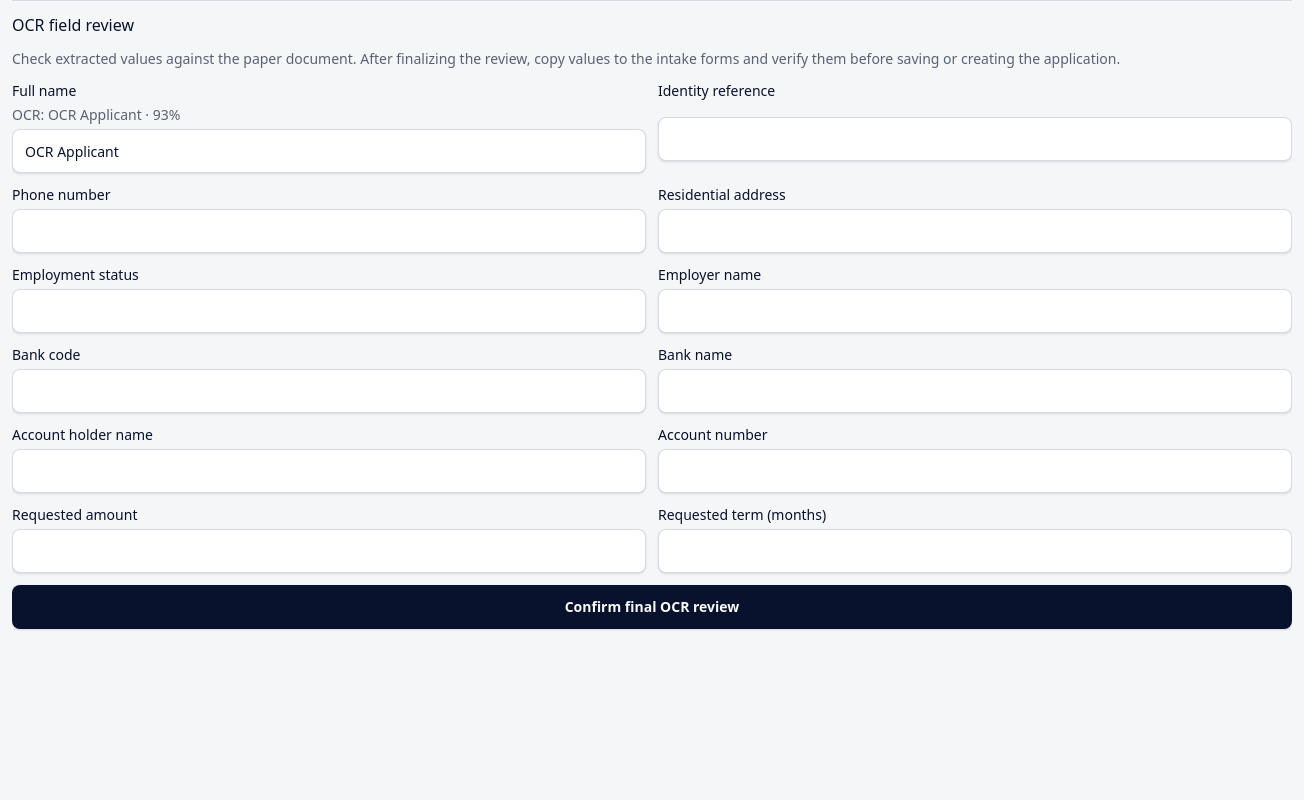
Scenario: IntakeOcrReviewPanel › renders confidence, submits Staff corrections, excludes consent, and drops sensitive cache on unmount
The width and height of the screenshot is (1304, 800).
Expected: the text "OCR: OCR Applicant · 93%" is shown, [12,105,180,124]
Replace the text in the field showing "OCR Applicant" with "Corrected Applicant" at coordinates (329, 151), box [12,129,646,173]
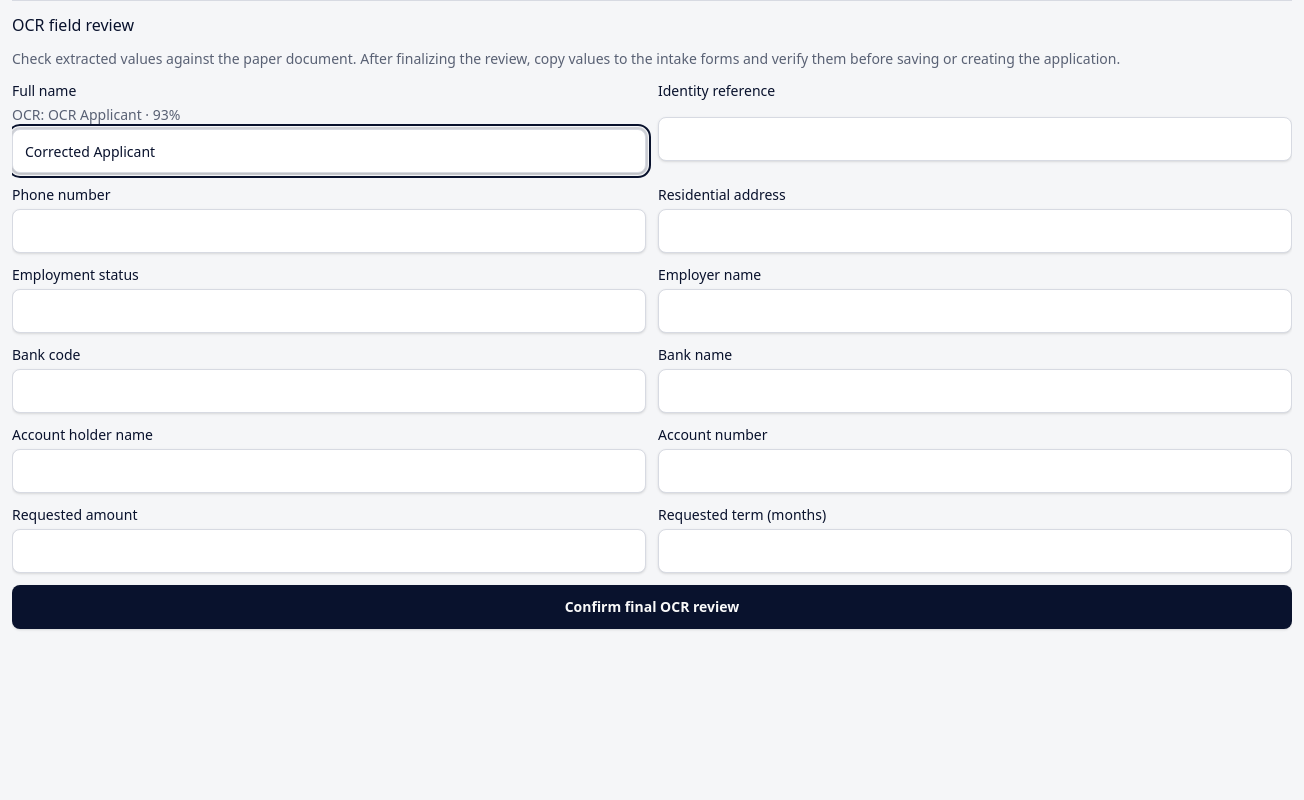
Click the button "Confirm final OCR review" at coordinates (652, 607), box [12,585,1292,629]
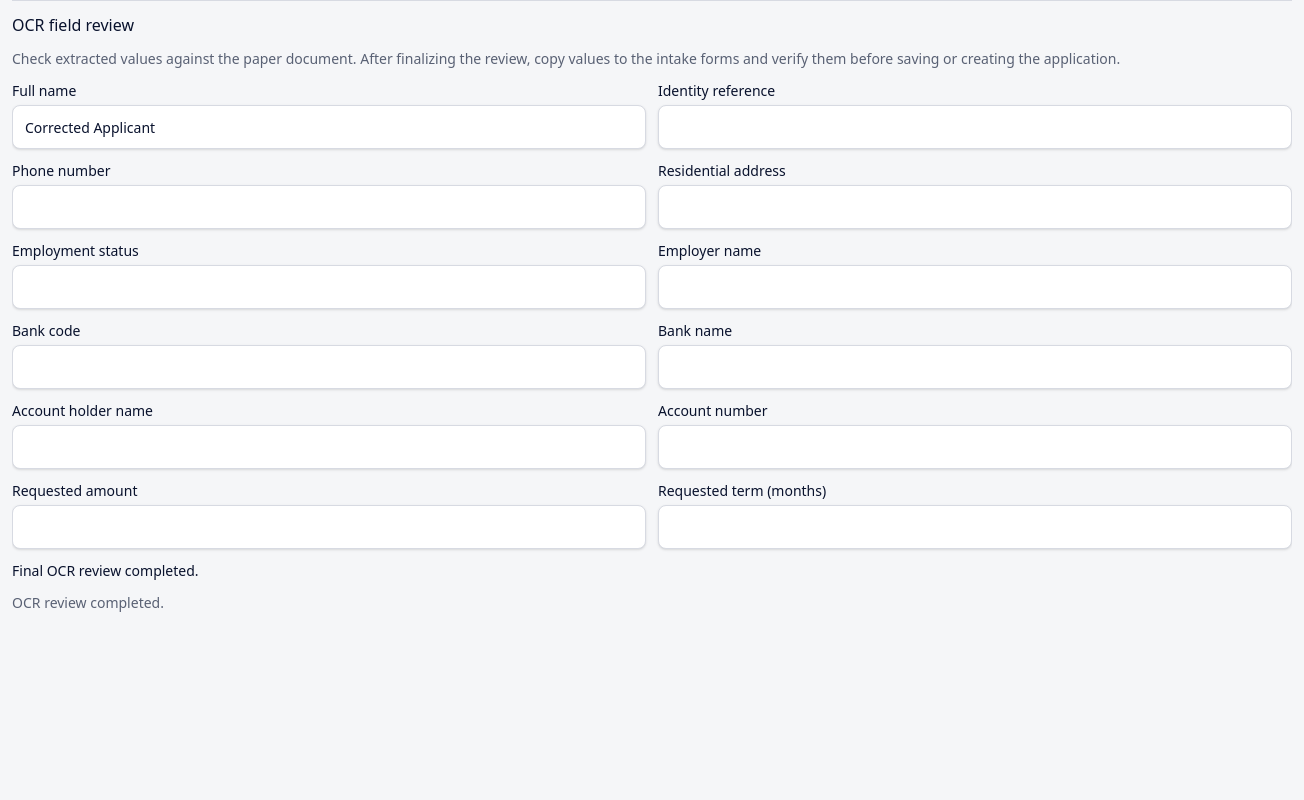
Result: the text "Final OCR review completed." is shown at [12,561,199,580]
